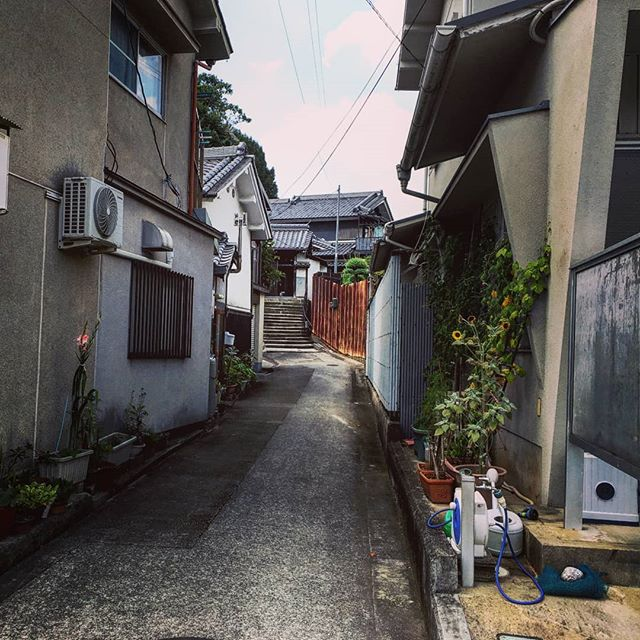building: (414, 8, 640, 633), (1, 1, 217, 434), (200, 145, 266, 368), (278, 182, 384, 259)
sky: (218, 1, 404, 195)
